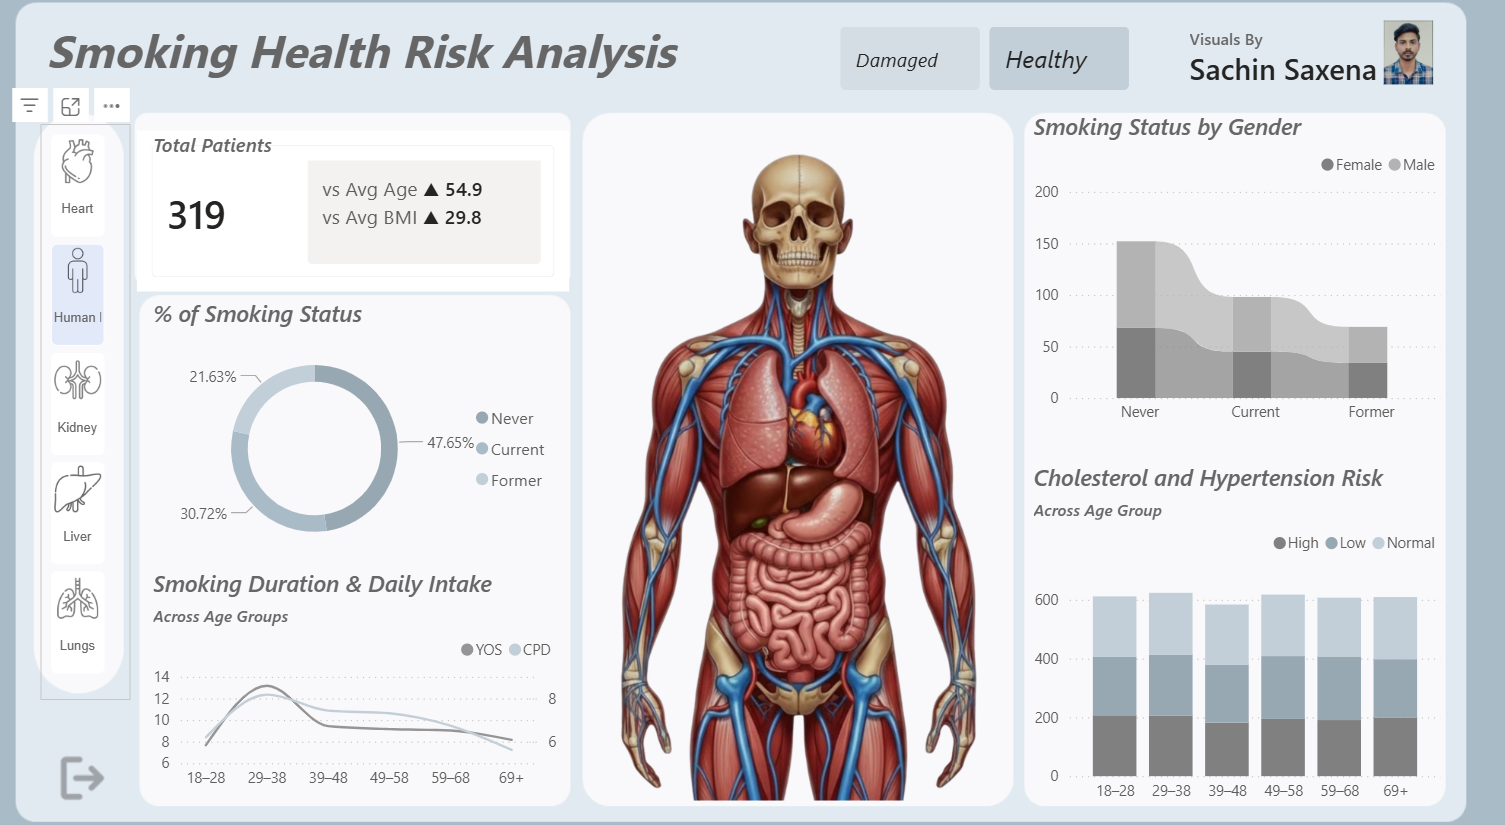

What the dashboard file says about the page in this screenshot:
{"tool":"powerbi","page":{"name":"Page 1","canvas":[1280,720],"ordinal":0},"visuals":[{"type":"cardVisual","fields":{"Data":["CountNonNull(health_dataset.Patient_ID)"]},"box":[134.8,118.1,366.4,143.8],"z":0},{"type":"textbox","box":[148.4,118.1,249.8,57.5],"z":1000},{"type":"advancedSlicerVisual","fields":{"Values":["condition.Organ_Condition"]},"box":[714.7,33.3,249.8,62.1],"z":2000},{"type":"image","box":[513.3,118.1,346.8,557.2],"z":3000},{"type":"ChicletSlicer1448559807354","fields":{"Category":["Organs.Organ"],"Image":["Organs.Icon_URL"]},"box":[60.6,118.1,74.2,475.5],"z":4000},{"type":"donutChart","title":"% of Smoking Status","fields":{"Category":["health_dataset.Smoking_Status"],"Y":["CountNonNull(health_dataset.Smoking_Status)"]},"box":[148.4,262,342.2,222.6],"z":5000},{"type":"lineChart","title":"Smoking Duration & Daily Intake","fields":{"Category":["health_dataset.Age Group"],"Y":["Avg(health_dataset.Years_of_Smoking)"],"Y2":["Avg(health_dataset.Cigarettes_Per_Day)"]},"box":[148.4,484.5,342.2,190.8],"z":6000},{"type":"ribbonChart","title":"Smoking Status by Gender","fields":{"Category":["health_dataset.Smoking_Status"],"Y":["CountNonNull(health_dataset.Patient_ID)"],"Series":["health_dataset.Gender"]},"box":[873.7,107.5,345.2,266.5],"z":7000},{"type":"columnChart","title":"Cholesterol and Hypertension Risk","fields":{"Category":["health_dataset.Age Group"],"Y":["Avg(health_dataset.Cholesterol_Level)"],"Series":["health_dataset.BP_Risk"]},"box":[873.7,396.7,345.2,289.2],"z":8000},{"type":"textbox","box":[60.6,27.3,579.9,80.3],"z":9000},{"type":"textbox","box":[1002.4,33.3,277.1,307.4],"z":10000},{"type":"image","box":[1141.7,33.3,90.9,53],"z":11000}]}

Visuals, with their boxes on the page's 1280x720 design canvas (x1, y1, x2, y2). These are canvas units, not pixel positions in the 1505x825 screenshot, which may show the page scaled, cropped or inside an application window:
cardVisual - CountNonNull(health_dataset.Patient_ID): pyautogui.locateOnScreen(135, 118, 501, 262)
textbox: pyautogui.locateOnScreen(148, 118, 398, 176)
advancedSlicerVisual - condition.Organ_Condition: pyautogui.locateOnScreen(715, 33, 964, 95)
image: pyautogui.locateOnScreen(513, 118, 860, 675)
ChicletSlicer1448559807354 - Organs.Organ x Organs.Icon_URL: pyautogui.locateOnScreen(61, 118, 135, 594)
"% of Smoking Status" donutChart: pyautogui.locateOnScreen(148, 262, 491, 485)
"Smoking Duration & Daily Intake" lineChart: pyautogui.locateOnScreen(148, 484, 491, 675)
"Smoking Status by Gender" ribbonChart: pyautogui.locateOnScreen(874, 108, 1219, 374)
"Cholesterol and Hypertension Risk" columnChart: pyautogui.locateOnScreen(874, 397, 1219, 686)
textbox: pyautogui.locateOnScreen(61, 27, 640, 108)
textbox: pyautogui.locateOnScreen(1002, 33, 1280, 341)
image: pyautogui.locateOnScreen(1142, 33, 1233, 86)
